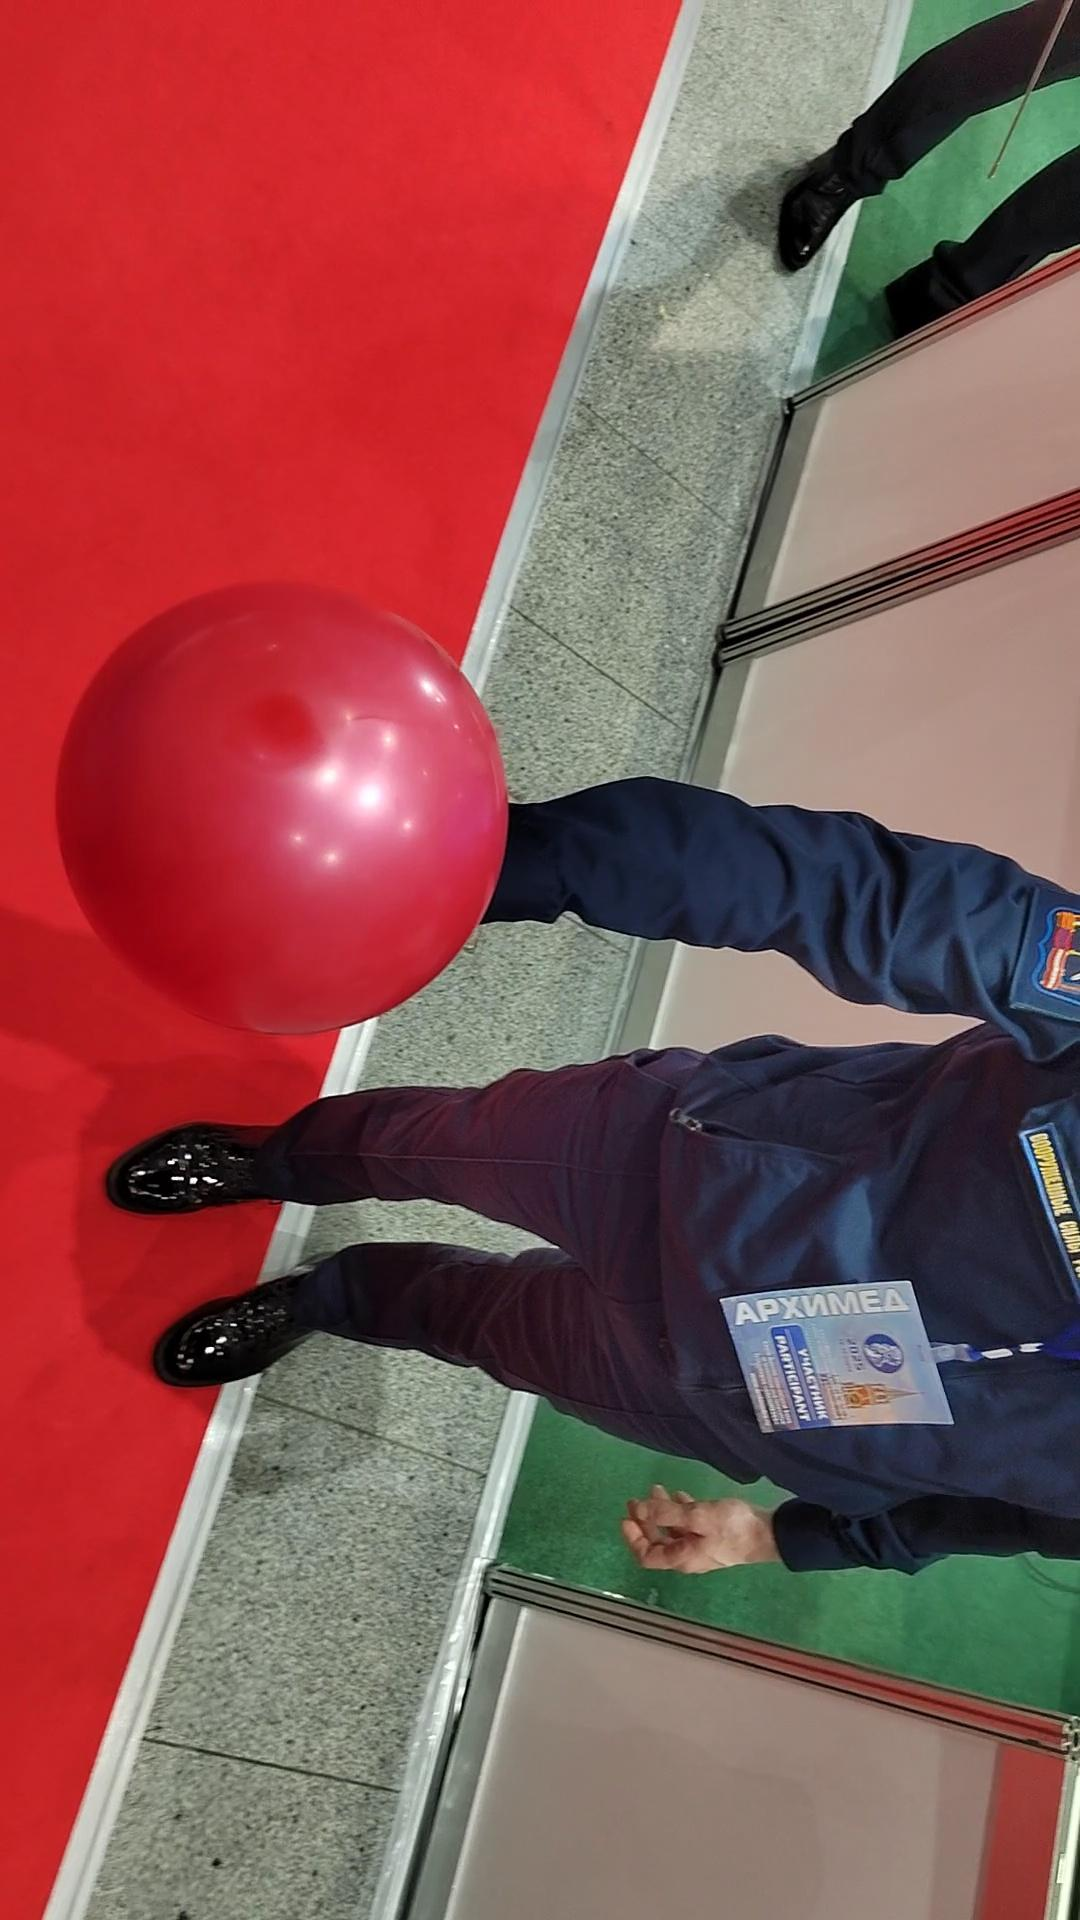red: (41, 568, 510, 1031)
